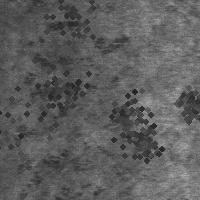rolled-in_scale: (14, 66, 121, 199), (17, 18, 145, 101), (0, 61, 73, 181), (20, 48, 102, 130), (114, 104, 192, 189), (88, 75, 162, 149), (26, 0, 112, 57), (115, 113, 171, 169), (167, 79, 200, 123)
